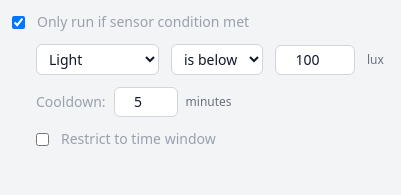
Test: PreConditionForm › Field updates › clears validation error when valid value entered
First enter invalid value
Clear the number field with test id "pre-condition-threshold-0" at (315, 60), box x1=275 y1=44 x2=355 y2=74
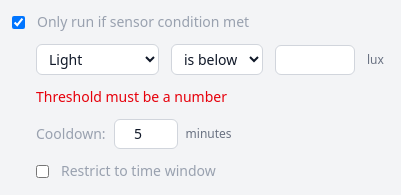
Now the message "Threshold must be a number" is shown, box x1=36 y1=87 x2=227 y2=106
Then enter valid value
Type "50" into the number field with test id "pre-condition-threshold-0" at (315, 60), box x1=275 y1=44 x2=355 y2=74
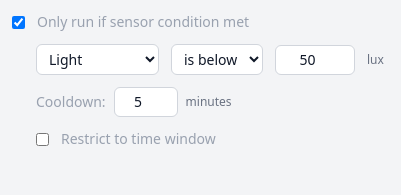
Now the message with test id "pre-condition-threshold-error-0" is gone
